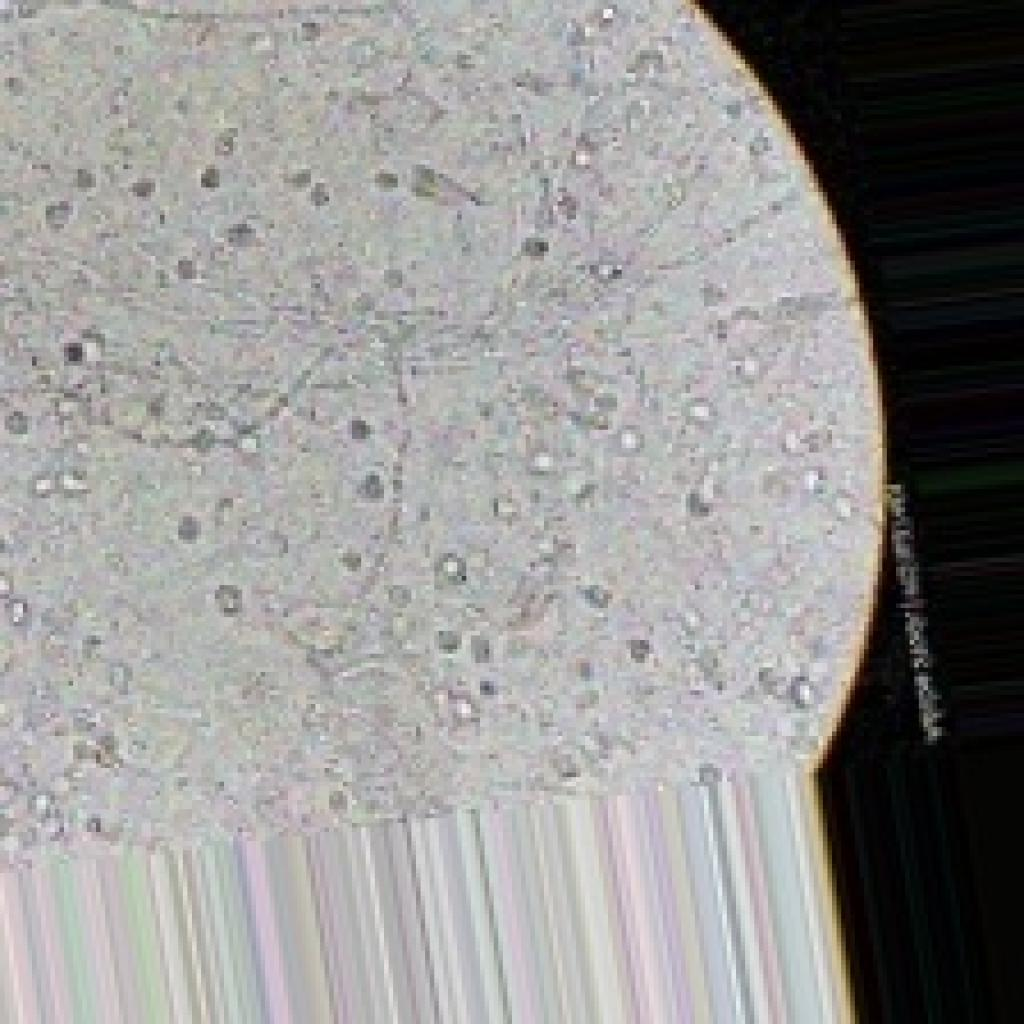Rodbacteria: (0, 0, 896, 1019)
